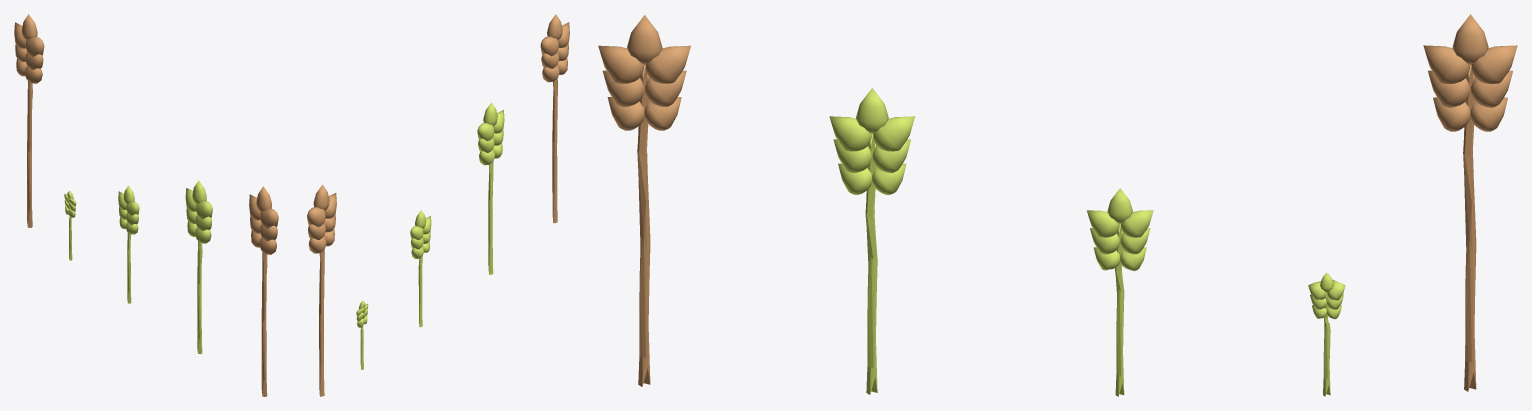
File: wheat.fbx
3 views of the same model, side by side, from view 1: azimuth 30°, elevation 25°; view 2: azimuth 150°, elevation 25°; view 3: azimuth 270°, elevation 25° (orthographic). The views are drawn at different scales.
Parts seen in each view (by area): view 1: Wheat, Stage 4, Stage 3, Stage 2, Stage 1; view 2: Wheat, Stage 4, Stage 3, Stage 2, Stage 1; view 3: Wheat, Stage 4, Stage 3, Stage 2, Stage 1.
Boxes of the visible parts, x1,y1,x2,y2 form: Wheat: [14, 14, 44, 227]; Stage 4: [249, 186, 278, 396]; Stage 3: [185, 180, 212, 353]; Stage 2: [118, 185, 139, 303]; Stage 1: [64, 190, 76, 260]; Wheat: [307, 184, 336, 396]; Stage 4: [540, 14, 569, 223]; Stage 3: [477, 102, 504, 274]; Stage 2: [410, 210, 431, 327]; Stage 1: [356, 300, 368, 369]; Wheat: [1423, 14, 1517, 391]; Stage 4: [598, 15, 690, 386]; Stage 3: [829, 88, 915, 394]; Stage 2: [1087, 188, 1153, 396]; Stage 1: [1308, 273, 1345, 396].
Size of the model in its own units: 6.07 by 81.5 by 178.
